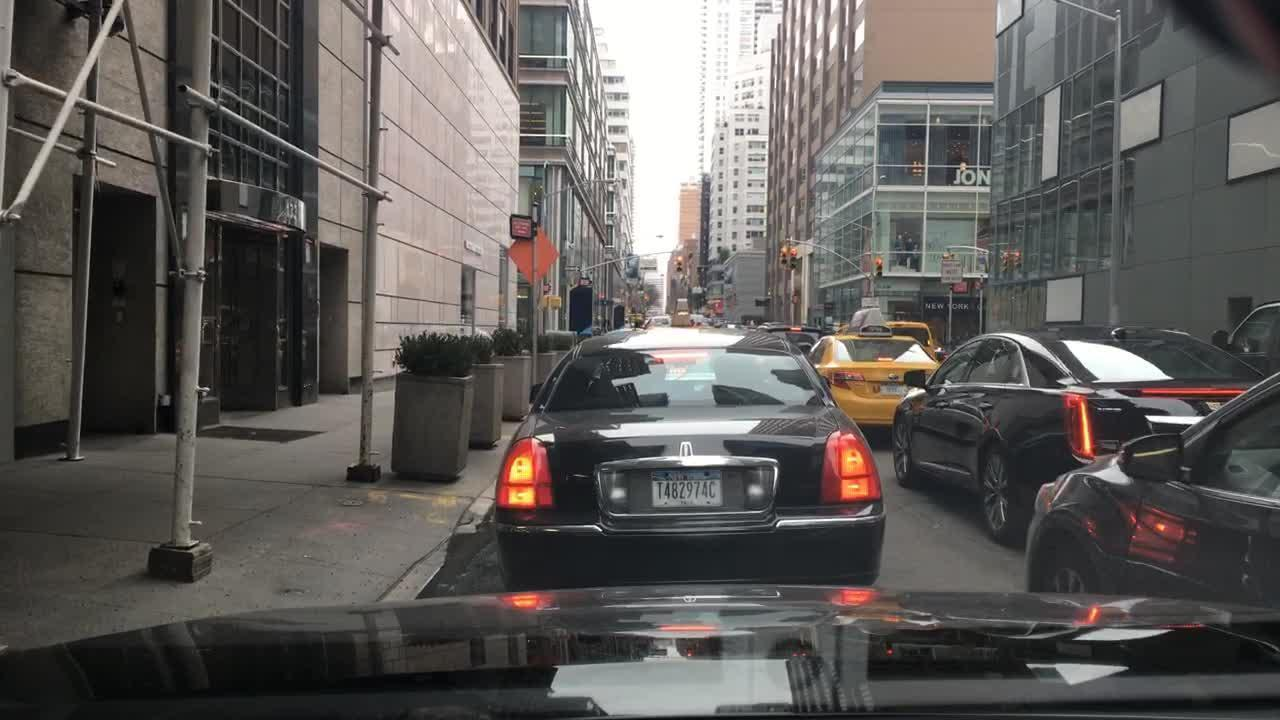lincoln: (678, 438, 697, 468)
